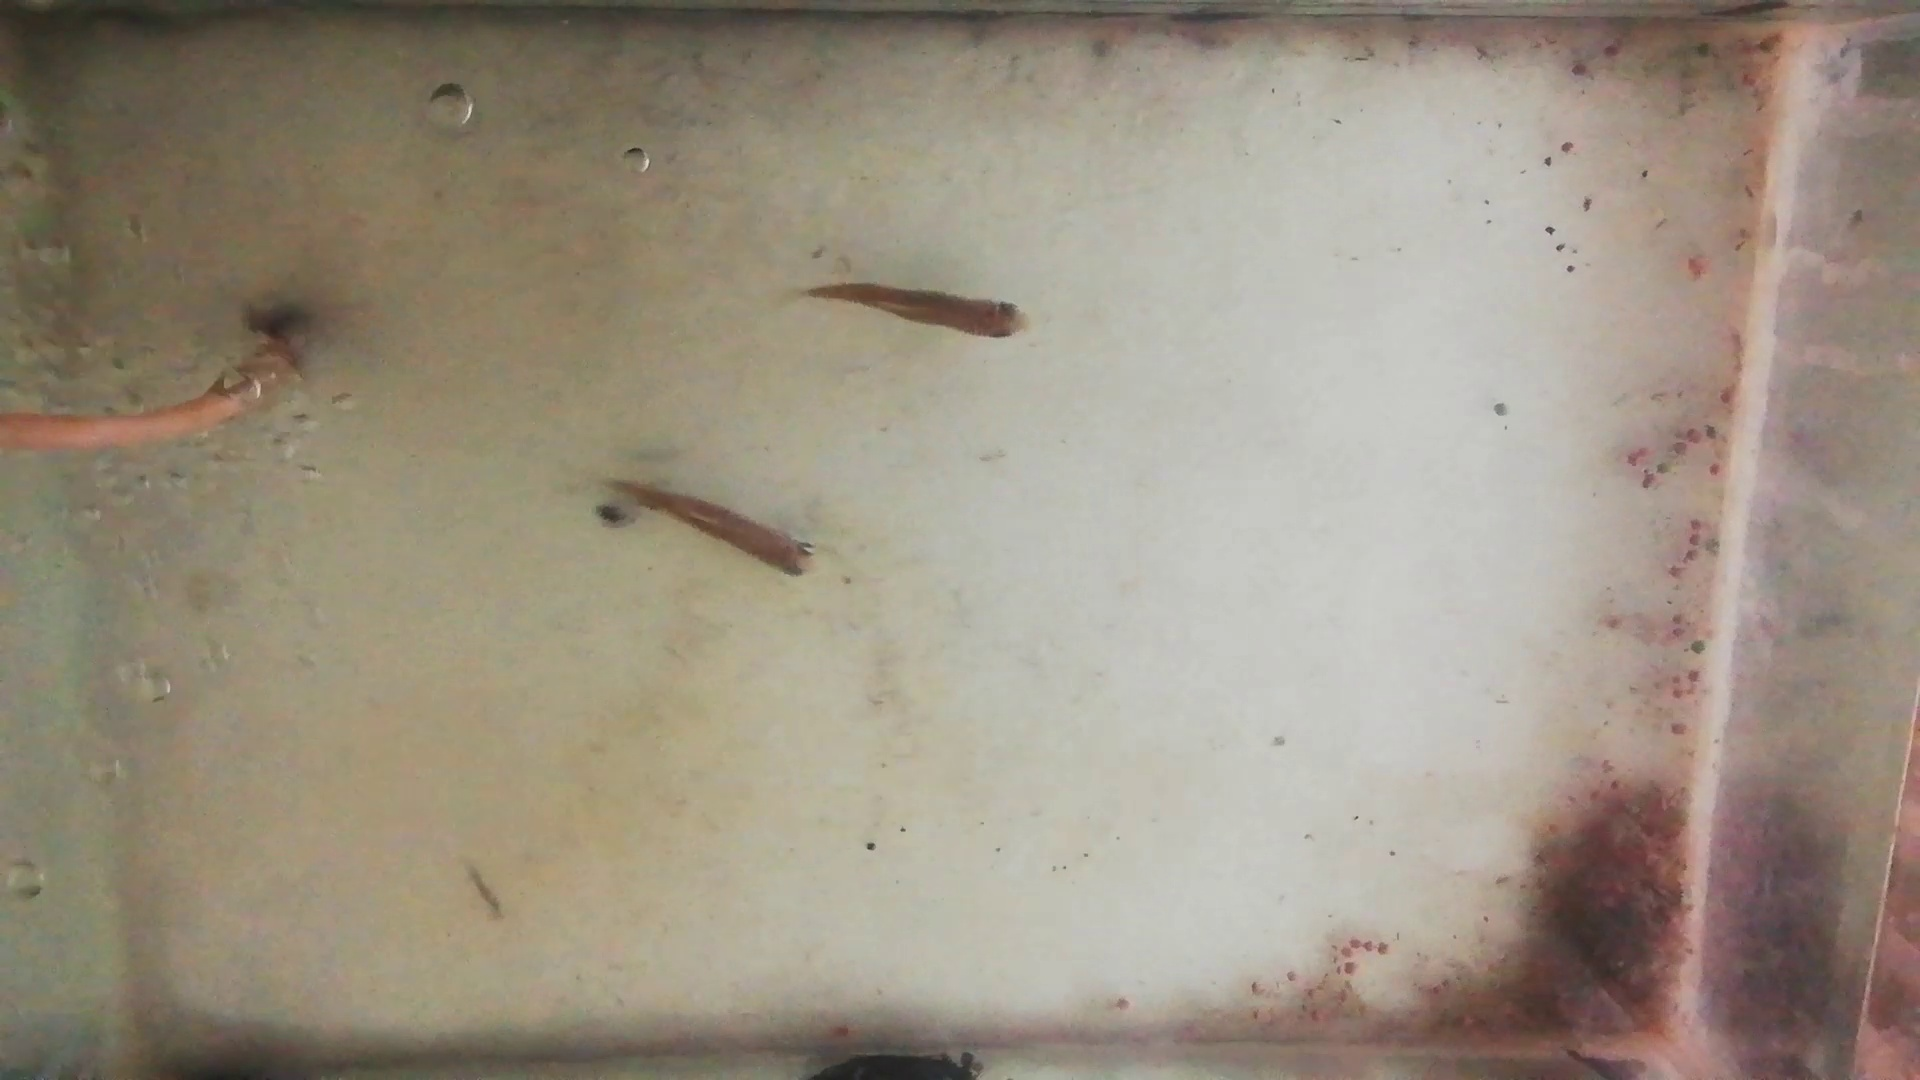fish: (615, 481, 822, 579), (810, 282, 1027, 342)
